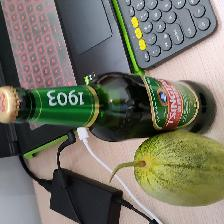gua: (120, 144, 216, 199)
